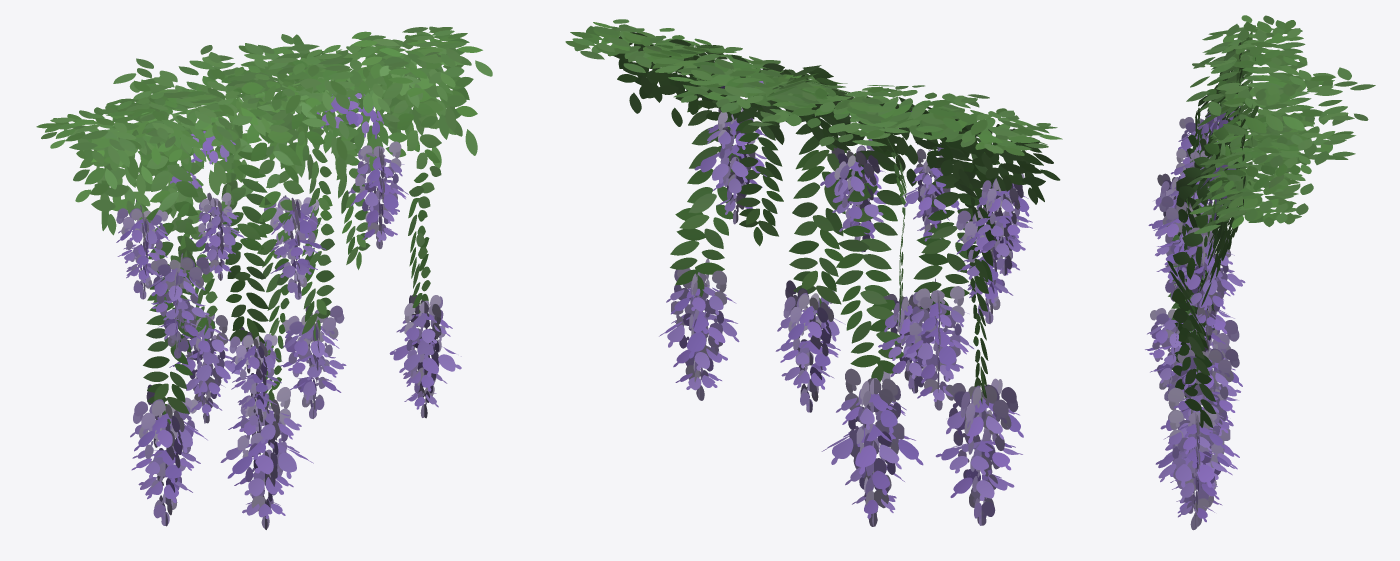
File: SM_Env_Vine_Creeping_01.fbx
The picture shows the model from 3 angles, left to right: view 1: azimuth 30°, elevation 25°; view 2: azimuth 150°, elevation 25°; view 3: azimuth 270°, elevation 25°; orthographic projection. The views are drawn at different scales.
Parts seen in each view (by area): view 1: SM_Env_Vine_Creeping_01_LOD0; view 2: SM_Env_Vine_Creeping_01_LOD0; view 3: SM_Env_Vine_Creeping_01_LOD0.
Boxes of the visible parts, bbox=[...] form: SM_Env_Vine_Creeping_01_LOD0: bbox=[36, 26, 492, 529]; SM_Env_Vine_Creeping_01_LOD0: bbox=[565, 19, 1062, 526]; SM_Env_Vine_Creeping_01_LOD0: bbox=[1145, 15, 1375, 530].
Size of what is drawn, in the model's own units: 250 by 240 by 126.
